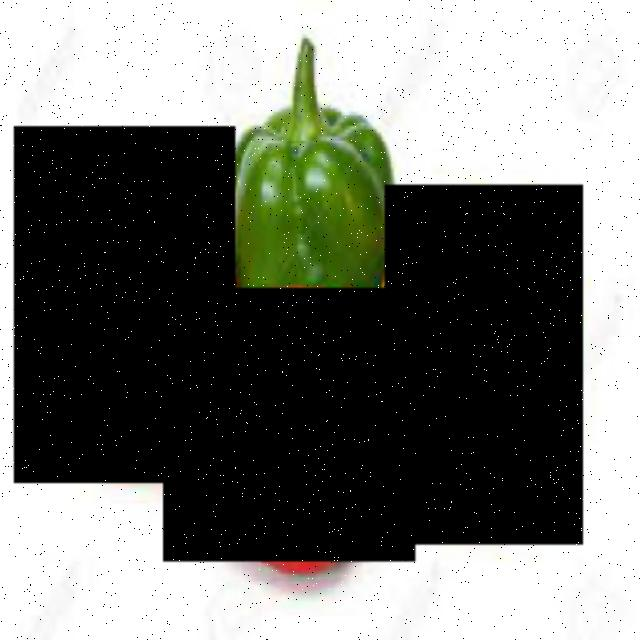Capsicum: (14, 127, 235, 484), (385, 184, 583, 545), (164, 288, 416, 562)
